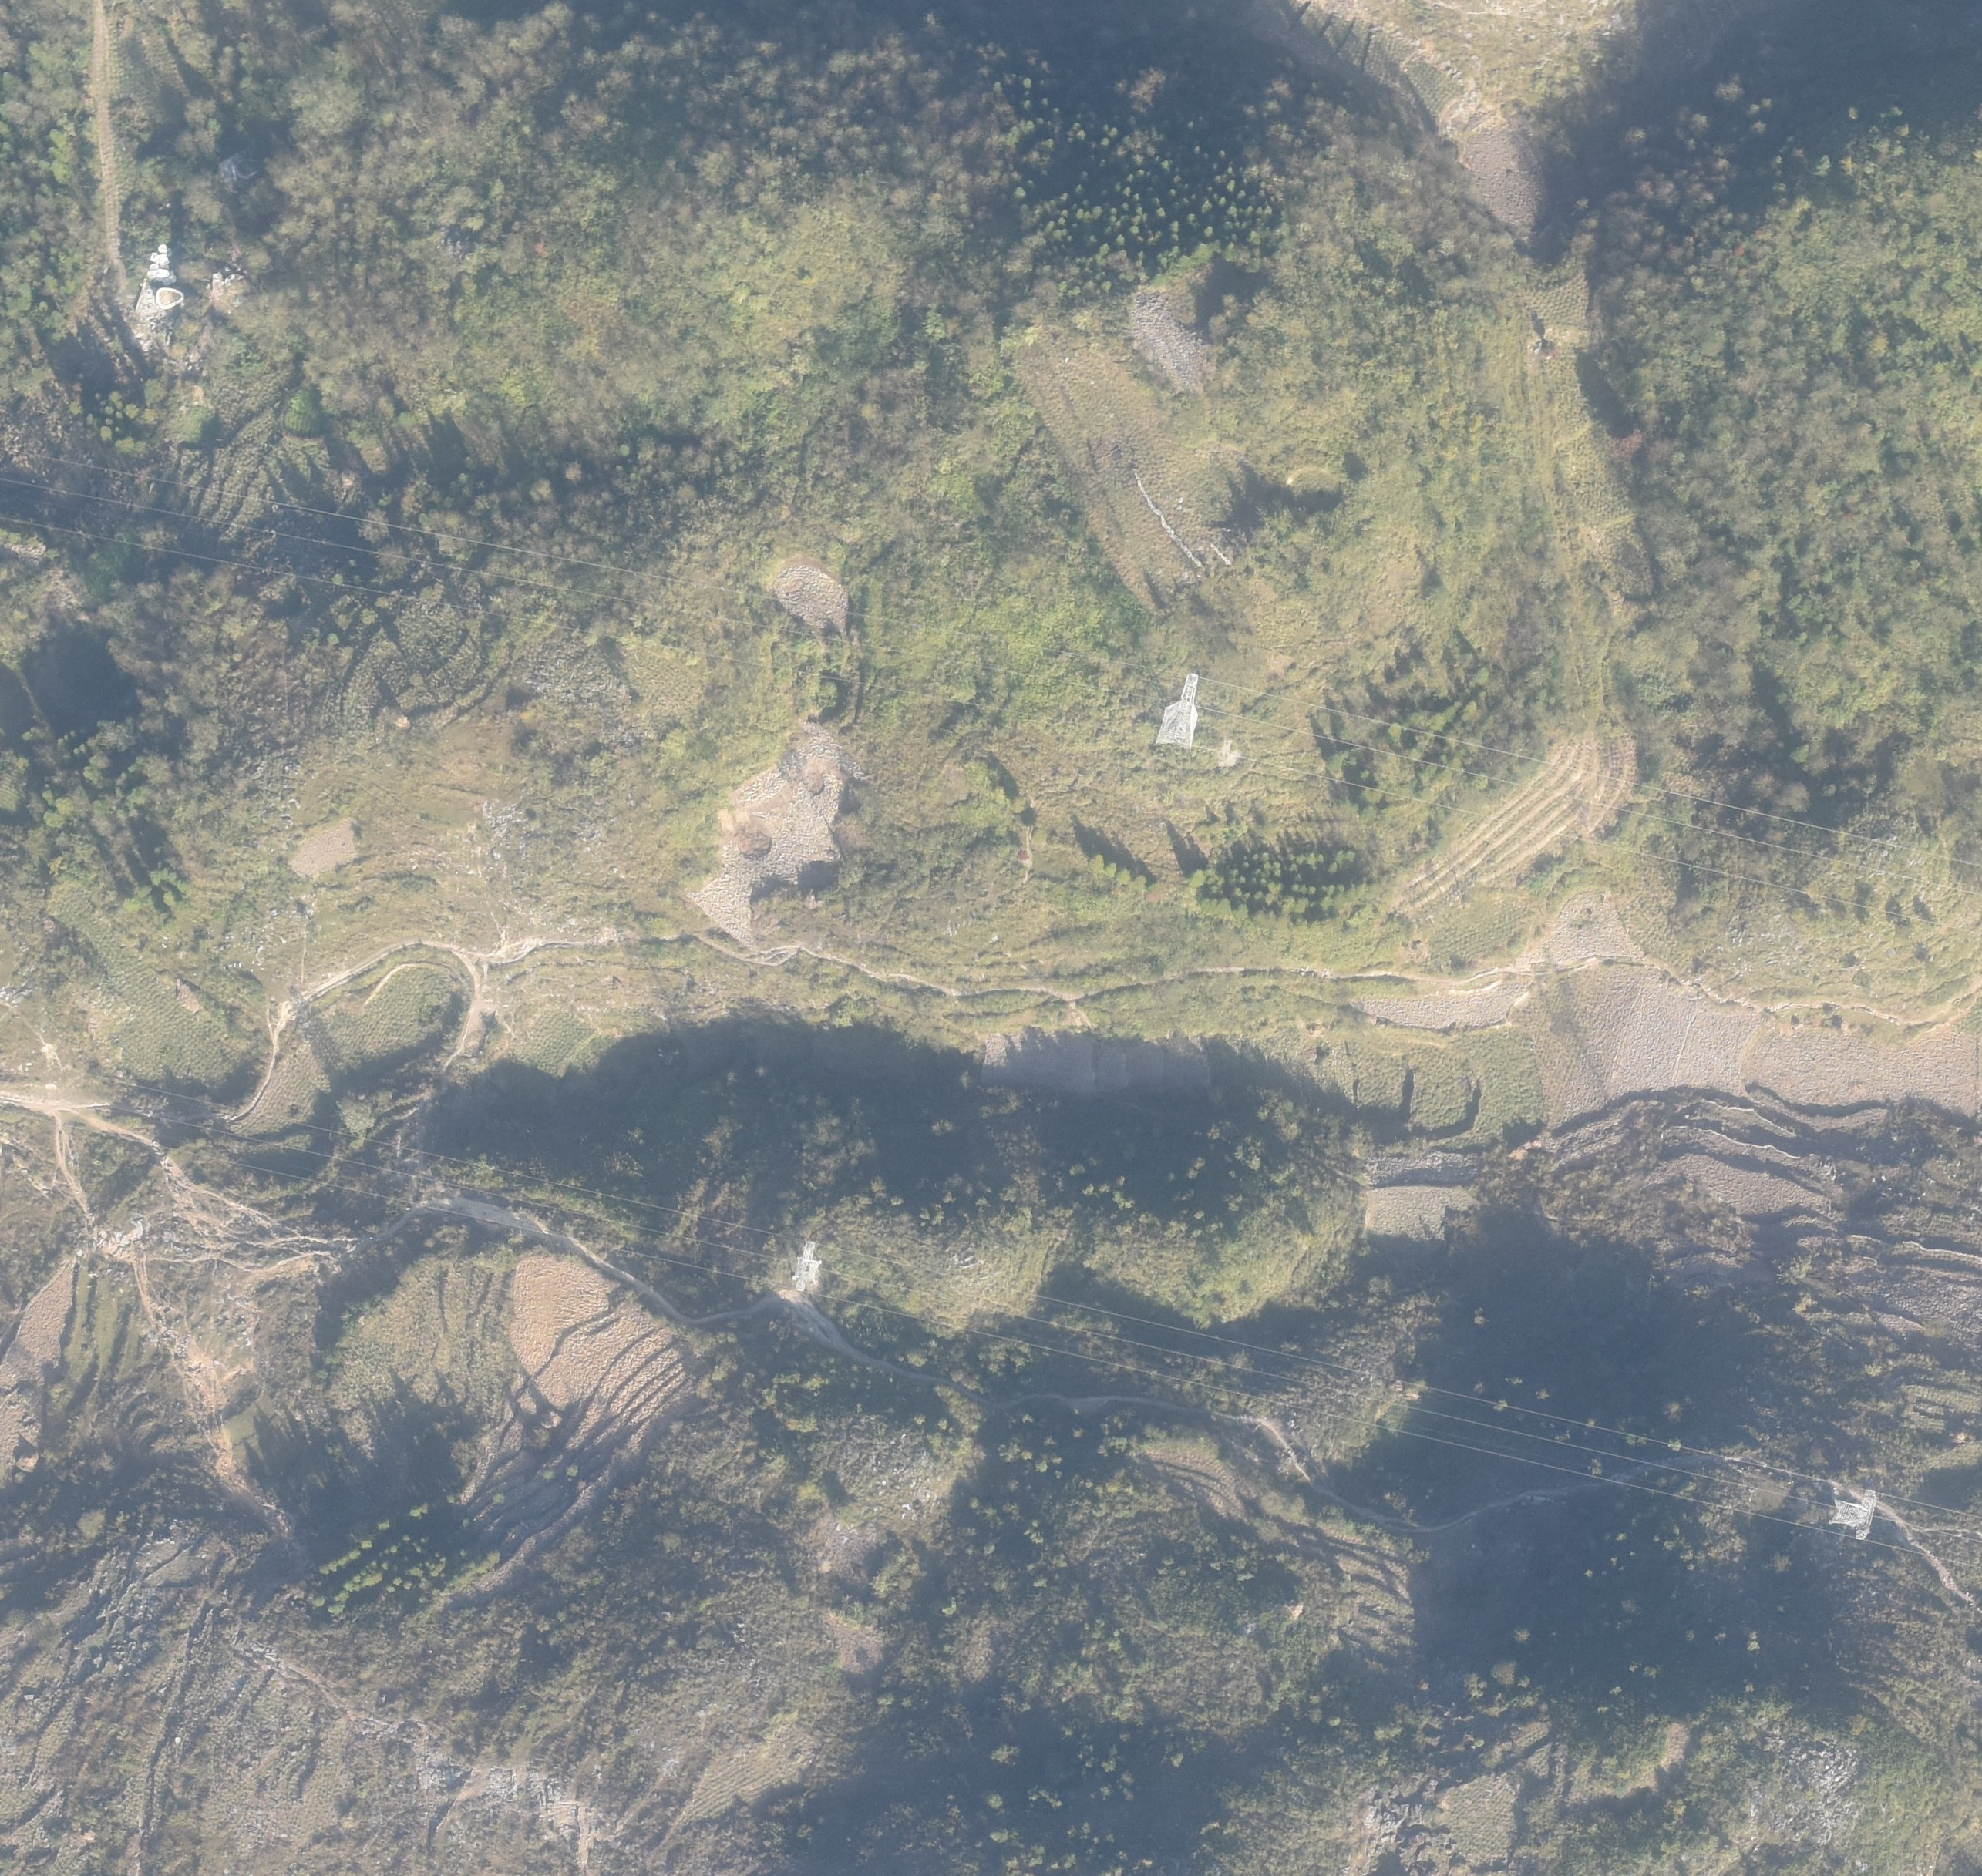cable-tower: (1159, 674, 1204, 760), (1826, 1492, 1886, 1548), (791, 1236, 817, 1303)
